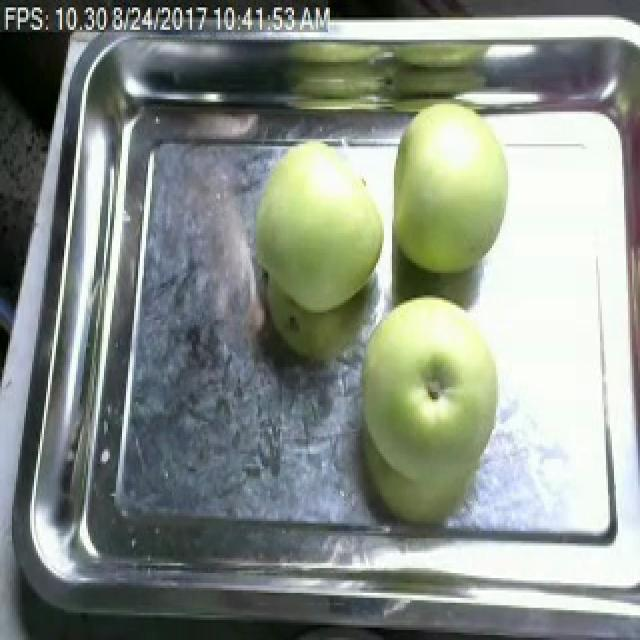50-_ripeness: (359, 295, 515, 492), (252, 124, 386, 314), (395, 95, 514, 288)
